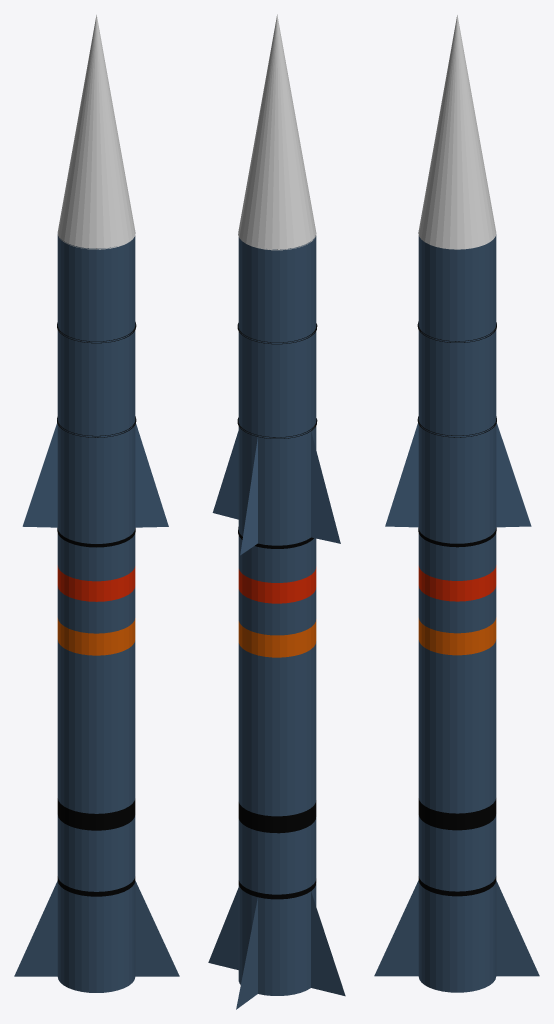
File: raketa_navidna.fbx
3 renders of one model, left to right at view 1: azimuth 90°, elevation 25°; view 2: azimuth 150°, elevation 25°; view 3: azimuth 270°, elevation 25°, orthographic.
Parts seen in each view (by area): view 1: ракета навідна; view 2: ракета навідна; view 3: ракета навідна.
Boxes of the visible parts, <box> form: ракета навідна: <box>14,15,179,992</box>; ракета навідна: <box>208,14,345,1009</box>; ракета навідна: <box>374,15,539,992</box>.
Size of the model in its own units: 460 by 3089 by 482.
